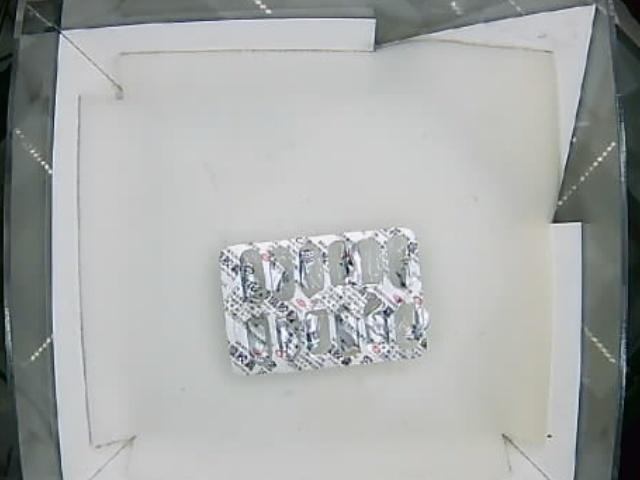Medicine: (218, 226, 426, 378)
